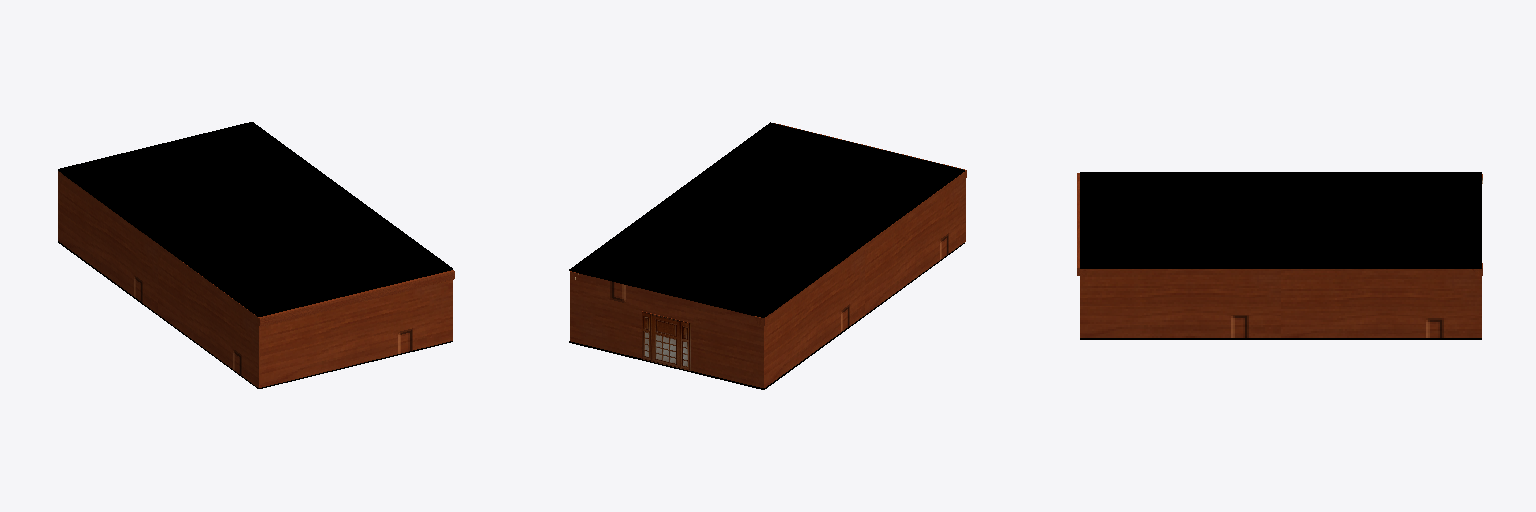
The picture shows the model from 3 angles: view 1: azimuth 30°, elevation 25°; view 2: azimuth 150°, elevation 25°; view 3: azimuth 270°, elevation 25°; orthographic projection.
Visible parts, largest first — view 1: polySurface1763 polySurface1602, polySurface1606 polySurface1603, polySurface1643, polySurface1602 polySurface1764; view 2: polySurface1763 polySurface1602, polySurface1606 polySurface1603, polySurface1643, polySurface1602 polySurface1764; view 3: polySurface1763 polySurface1602, polySurface1606 polySurface1603, polySurface1602 polySurface1764.
Boxes of the visible parts, x1=… form: polySurface1763 polySurface1602: x1=58, y1=122, x2=452, y2=316; polySurface1606 polySurface1603: x1=58, y1=175, x2=452, y2=387; polySurface1643: x1=58, y1=171, x2=454, y2=326; polySurface1602 polySurface1764: x1=58, y1=241, x2=452, y2=388; polySurface1763 polySurface1602: x1=569, y1=122, x2=964, y2=317; polySurface1606 polySurface1603: x1=570, y1=171, x2=965, y2=387; polySurface1643: x1=570, y1=123, x2=966, y2=370; polySurface1602 polySurface1764: x1=569, y1=243, x2=964, y2=389; polySurface1763 polySurface1602: x1=1080, y1=172, x2=1481, y2=268; polySurface1606 polySurface1603: x1=1080, y1=269, x2=1481, y2=337; polySurface1602 polySurface1764: x1=1080, y1=338, x2=1481, y2=339.
Size of the model in its own units: 74.78 by 26.89 by 135.
6 materials, 5 textured.